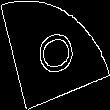O_W: (30, 27, 80, 83)
